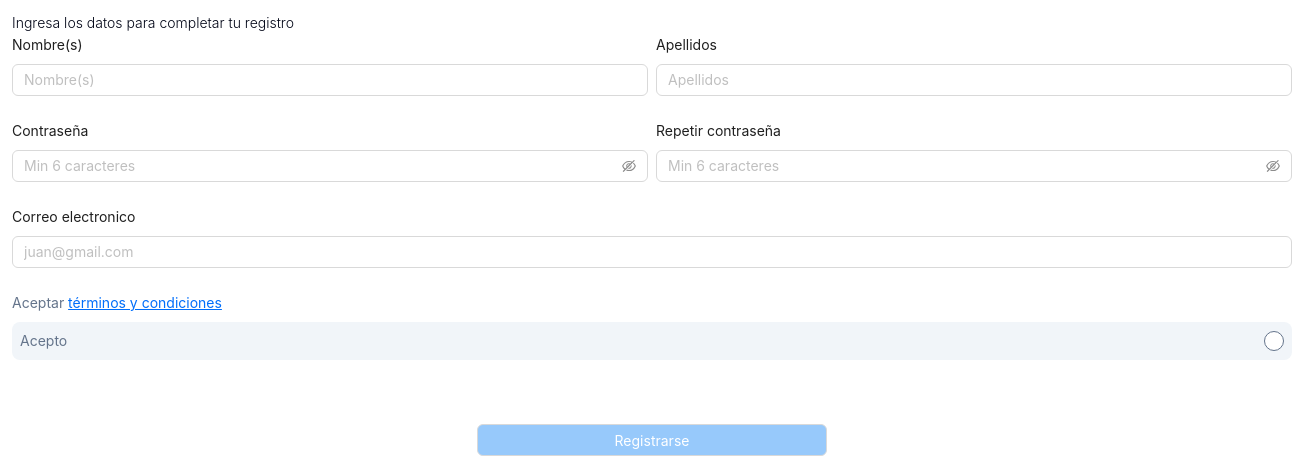
Test: Resgiter Validation Test › should show an error for invalid first name
Type "123" into the field with placeholder "Nombre(s)" at (330, 80), box [12, 64, 648, 96]
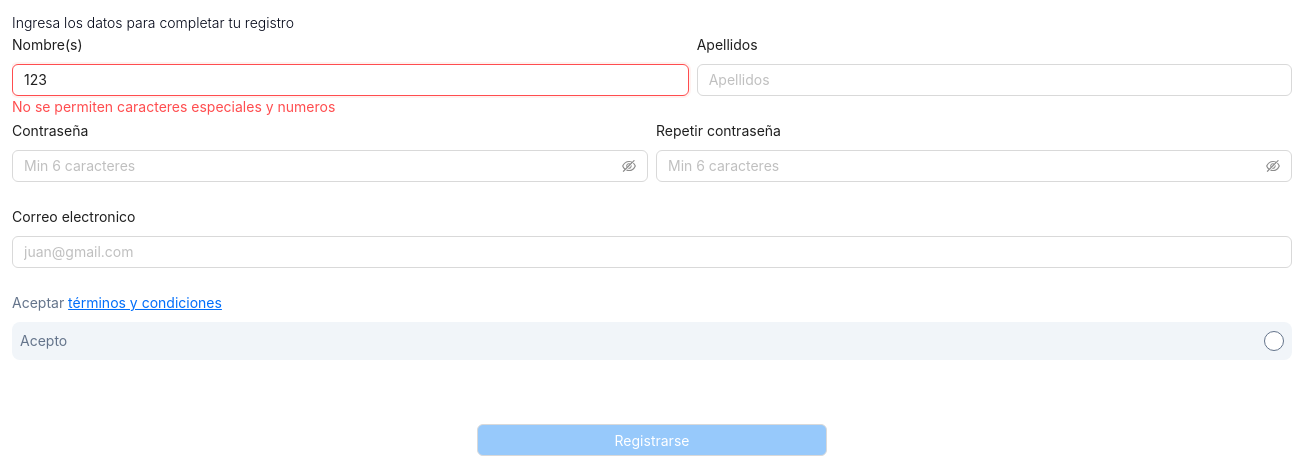
expect the text "No se permiten caracteres especiales y numeros" is shown: met, box [12, 98, 335, 115]
